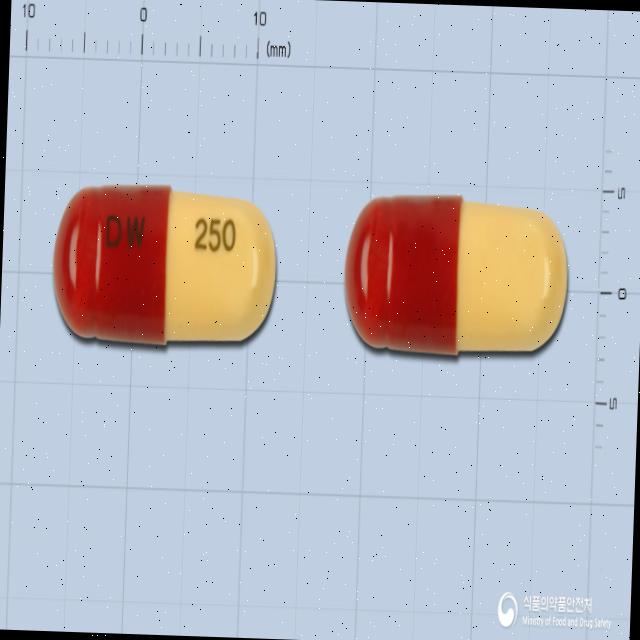Gomcillin Cap: (340, 196, 572, 367), (49, 182, 280, 352)
